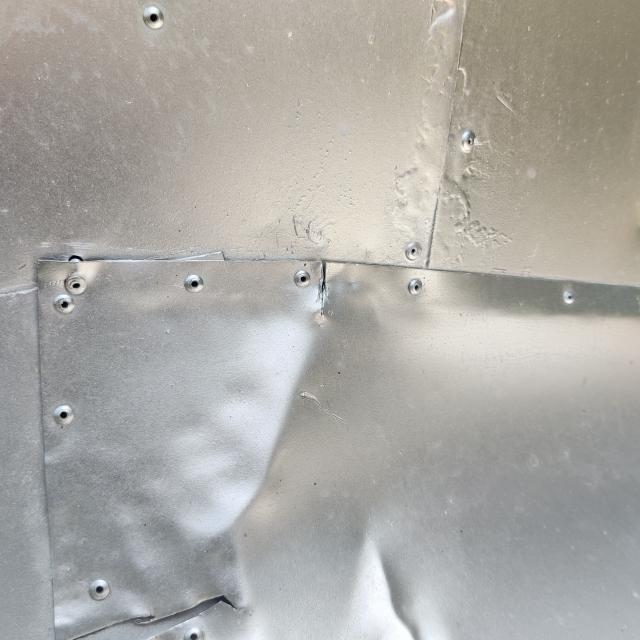crack: (65, 578, 249, 640), (307, 252, 345, 324)
dent: (136, 271, 399, 565), (320, 501, 461, 640)
